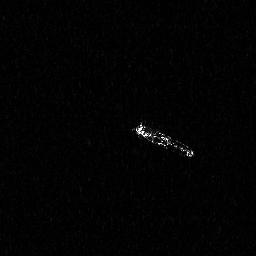ship: (132, 121, 195, 159)
